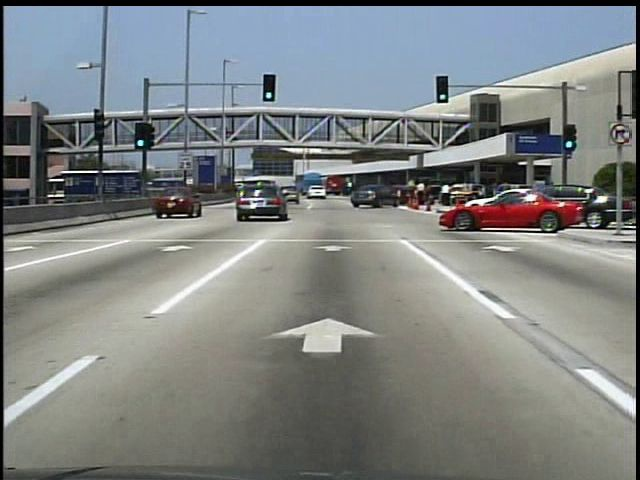person: (414, 178, 430, 210), (440, 186, 455, 212), (222, 130, 230, 146)
